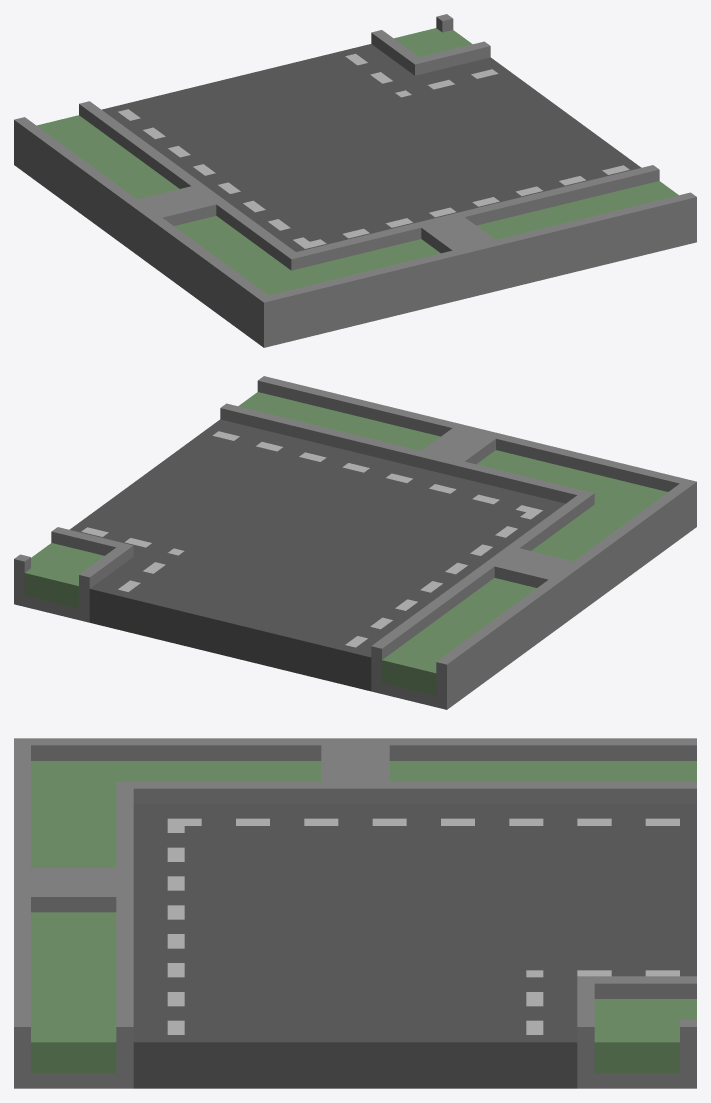
The model's file is RoadL2.vox.obj.
The picture shows the model from 3 angles, top to bottom: view 1: azimuth 30°, elevation 25°; view 2: azimuth 150°, elevation 25°; view 3: azimuth 270°, elevation 25°; orthographic projection. The views are drawn at different scales.
Size of the model in its own units: 4 by 0.4 by 4.
Materials: 1 (1 with a texture image).
